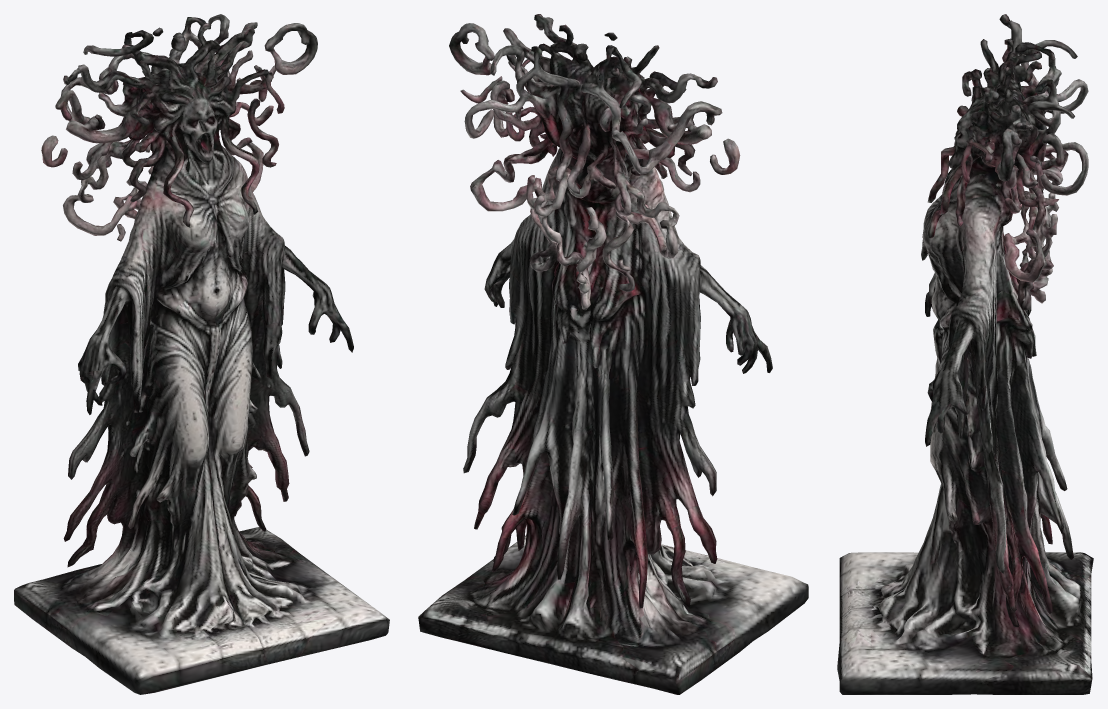
The model's file is UD_Banshee.glb.
3 views of the same model, side by side, from view 1: azimuth 30°, elevation 25°; view 2: azimuth 150°, elevation 25°; view 3: azimuth 270°, elevation 25° (orthographic). The views are drawn at different scales.
Size of the model in its own units: 0.9433 by 1.9 by 0.7554.
Materials: 1 (1 with a texture image).
